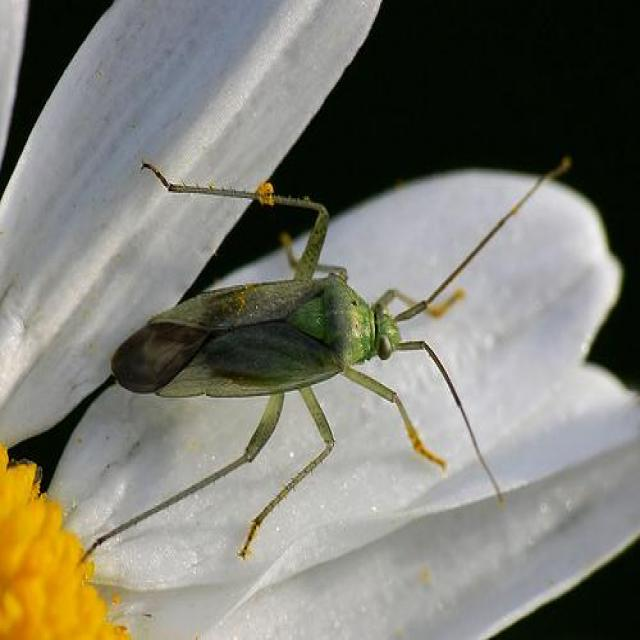Miridae-Adult-: (55, 133, 524, 526)
